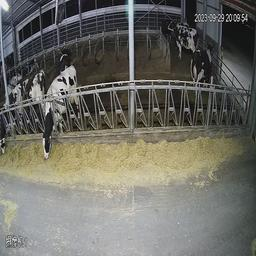cow: (40, 61, 83, 162), (187, 38, 218, 98), (167, 17, 200, 58), (0, 90, 17, 159), (19, 66, 43, 112), (58, 45, 72, 69)
